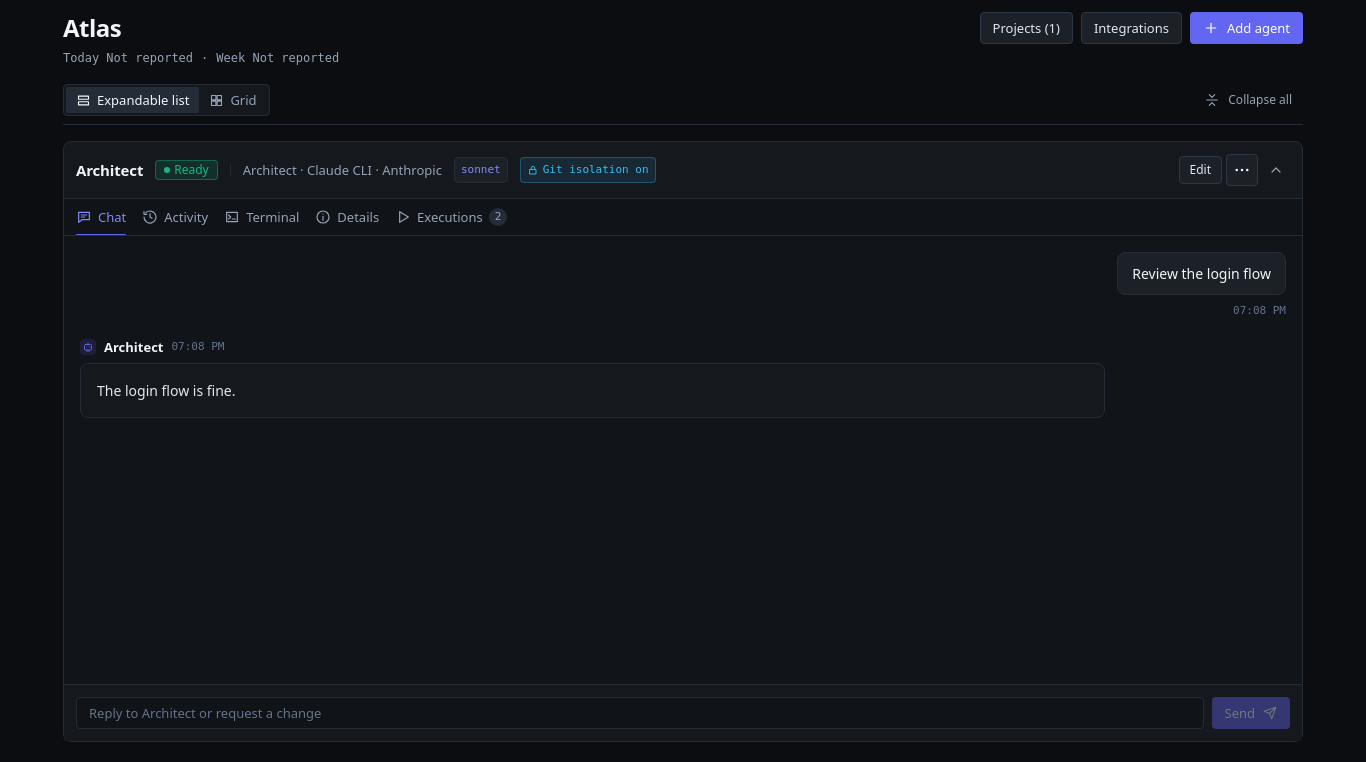
Test: the execution history of an agent › brings back the conversation and the ended executions of this workspace only
Expected: the text "The login flow is fine." is shown, 97,381 -> 236,400
Step 1. Click the tab "Executions 2" → (451, 217), box 395,199 -> 507,235
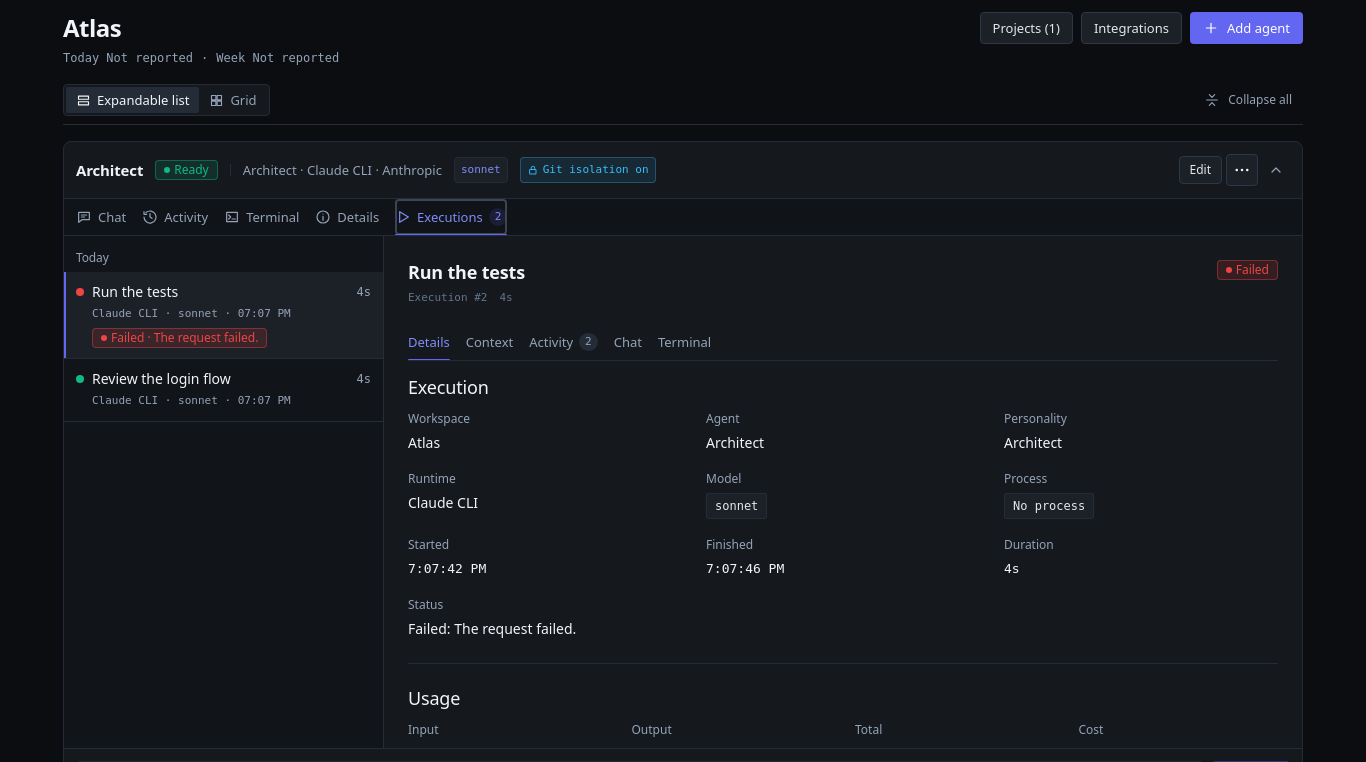
Expected: the text "Review the login flow" is shown, 92,369 -> 231,388
Result: the text "Run the tests" is shown at 92,282 -> 178,301
